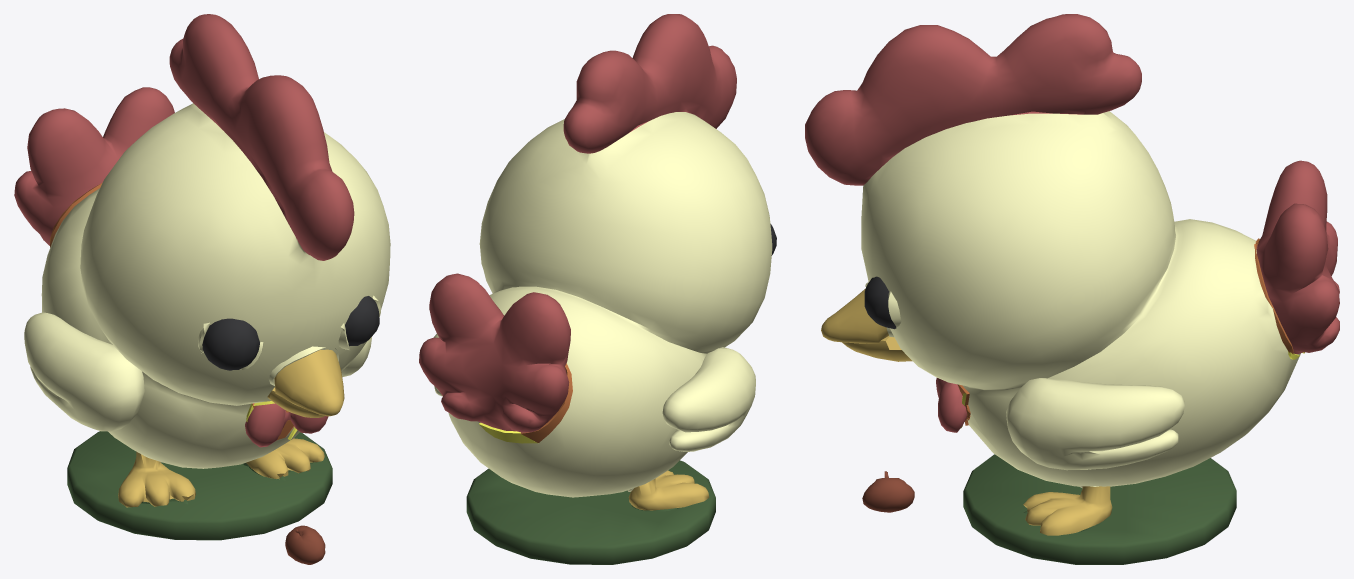
Rendered from BakerCatLoaf.fbx.
3 renders of one model, left to right at view 1: azimuth 30°, elevation 25°; view 2: azimuth 150°, elevation 25°; view 3: azimuth 270°, elevation 25°, orthographic. The views are drawn at different scales.
Parts seen in each view (by area): view 1: S_BakerCatLoaf, M_BakerCatLoaf; view 2: S_BakerCatLoaf; view 3: S_BakerCatLoaf, M_BakerCatLoaf.
Boxes of the visible parts, x1=… form: S_BakerCatLoaf: x1=14, y1=14, x2=390, y2=564; M_BakerCatLoaf: x1=268, y1=346, x2=344, y2=416; S_BakerCatLoaf: x1=419, y1=14, x2=776, y2=564; S_BakerCatLoaf: x1=805, y1=14, x2=1339, y2=564; M_BakerCatLoaf: x1=821, y1=282, x2=893, y2=343.
Size of the model in its own units: 417 by 610 by 600.
